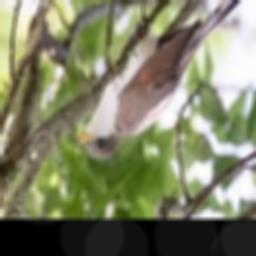Cuckoo: (70, 0, 251, 157)
